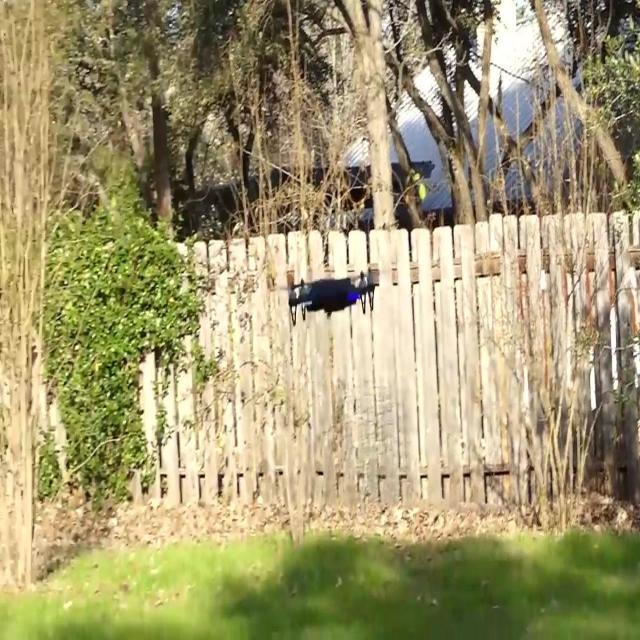UAV: (280, 267, 380, 328)
